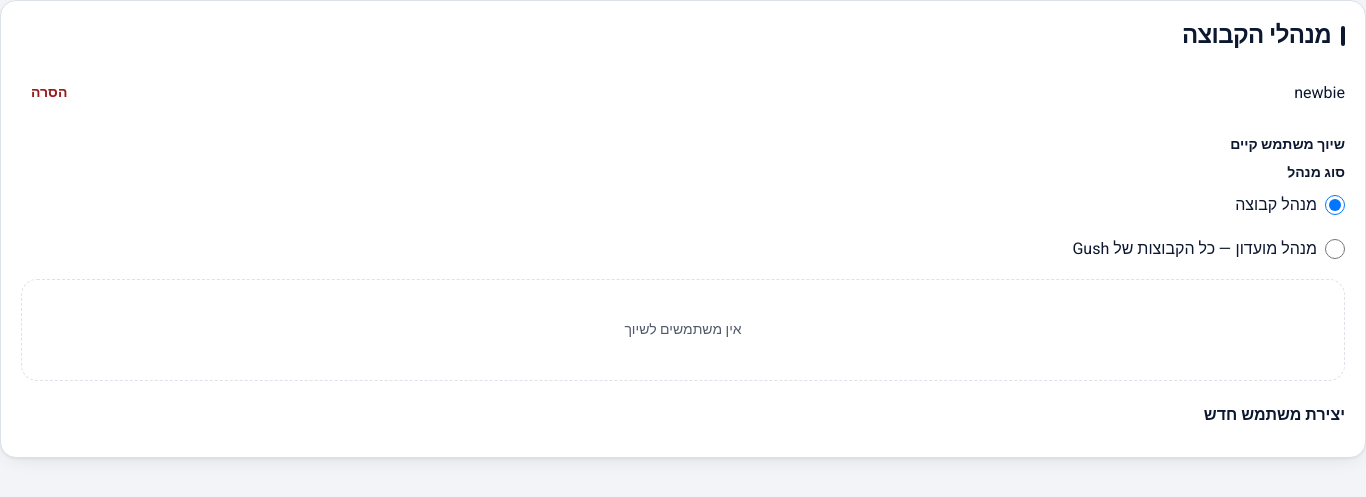
Test case: TeamAdminsSection › keeps the scope radios when no users are left to assign
This screenshot has width=1366, height=497.
Click the radio button named "assign-scope".
click(1335, 249)  # box [1325,239,1345,259]
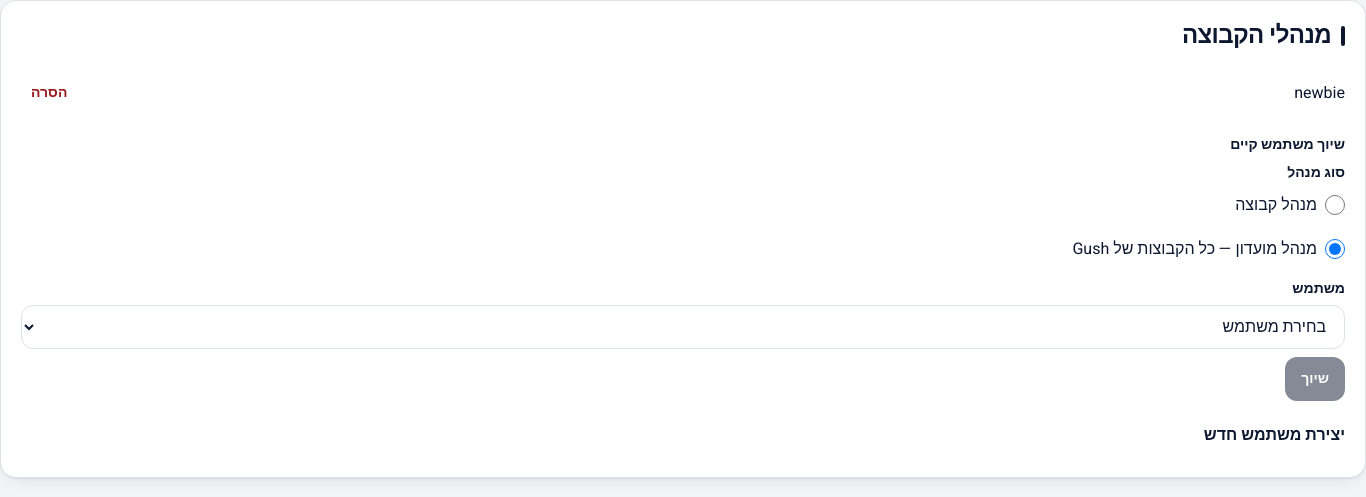
expect the dropdown with id "assign-user" is shown: met
Select "newbie" in the dropdown with id "assign-user" at (683, 327), box [21,305,1345,349]
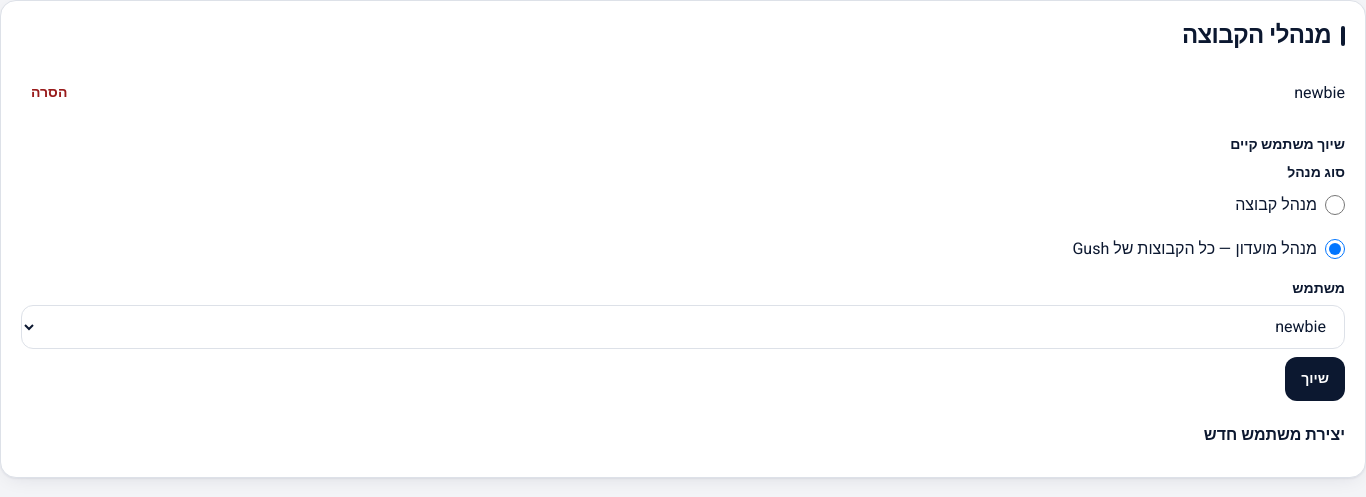
Click the radio button named "assign-scope".
click(1335, 205)  # box [1325,195,1345,215]
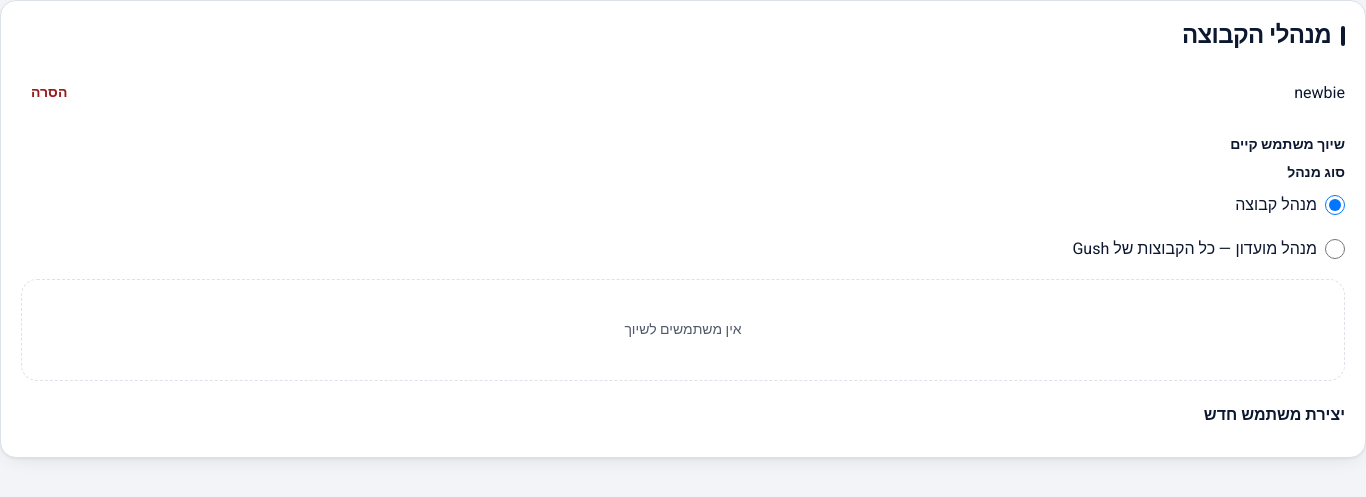
expect the text "אין משתמשים לשיוך" is shown: met, box [21,279,1345,381]
